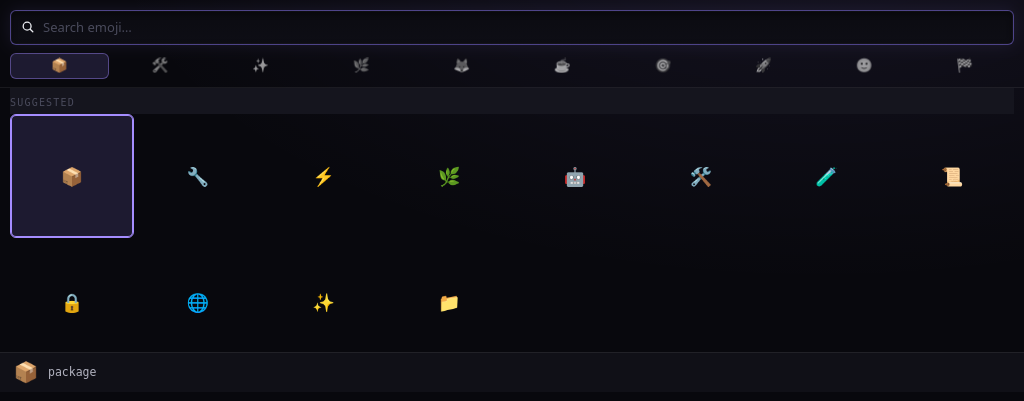
Test case: EmojiPicker › typing 'robot' leaves the 🤖 tile and hides the tabs
In the field labelled "Search emoji": (523, 27) 43,18 -> 1003,37, type "robot"
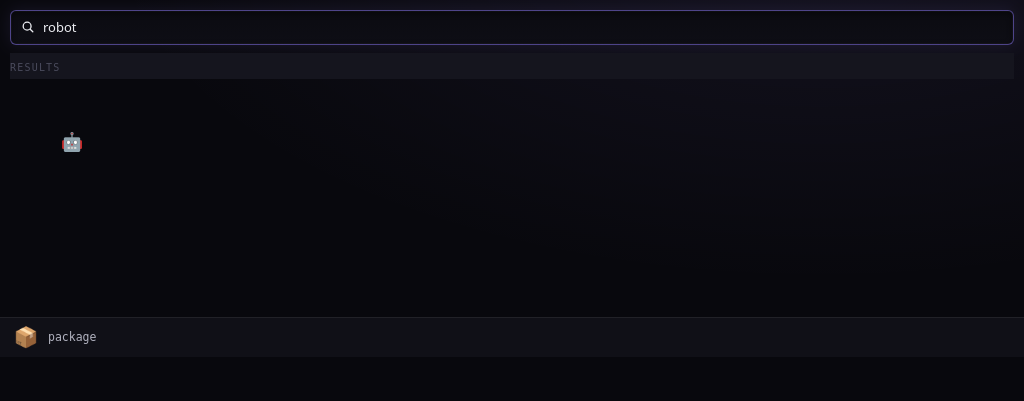
Result: the number of buttons with class "emoji-picker-tile" is 1 at 10,79 -> 134,203
